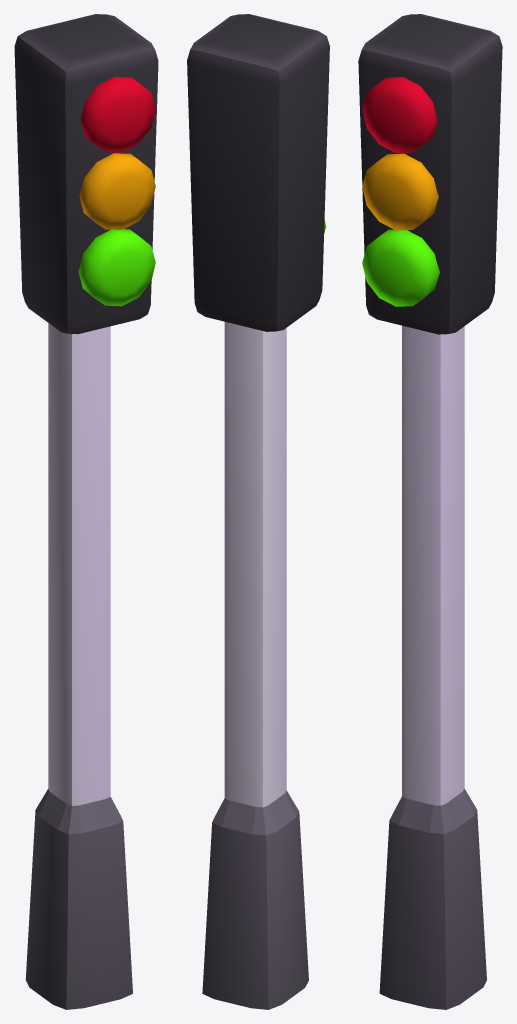
The model's file is TrafficLamp.fbx.
3 views of the same model, side by side, from view 1: azimuth 30°, elevation 25°; view 2: azimuth 150°, elevation 25°; view 3: azimuth 330°, elevation 25° (orthographic).
Parts seen in each view (by area): view 1: Box007, Box008, Cylinder003, Cylinder002, Cylinder001; view 2: Box007, Box008; view 3: Box007, Box008, Cylinder003, Cylinder002, Cylinder001.
Part boxes in pixels (x1,y1,x2,y2): Box007: (25,323,132,1009); Box008: (14,14,158,334); Cylinder003: (78,229,155,306); Cylinder002: (79,153,155,229); Cylinder001: (80,76,155,152); Box007: (202,322,308,1009); Box008: (187,14,329,331); Box007: (379,325,486,1009); Box008: (358,14,502,334); Cylinder003: (362,229,439,306); Cylinder002: (362,153,438,230); Cylinder001: (362,77,437,153).
Size of the model in its own units: 2.48 by 22.31 by 2.83.
